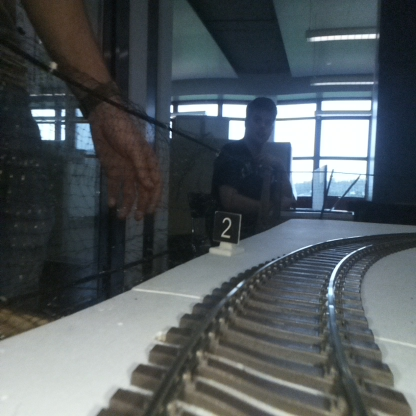black-stop-2: (214, 214, 240, 253)
